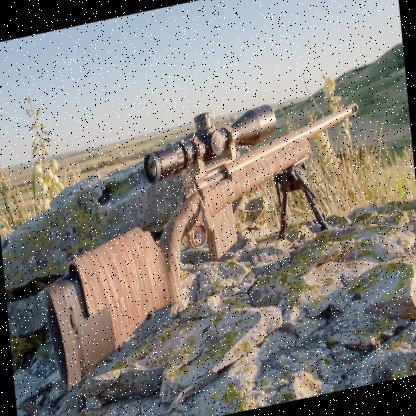rifle: (25, 88, 380, 390)
